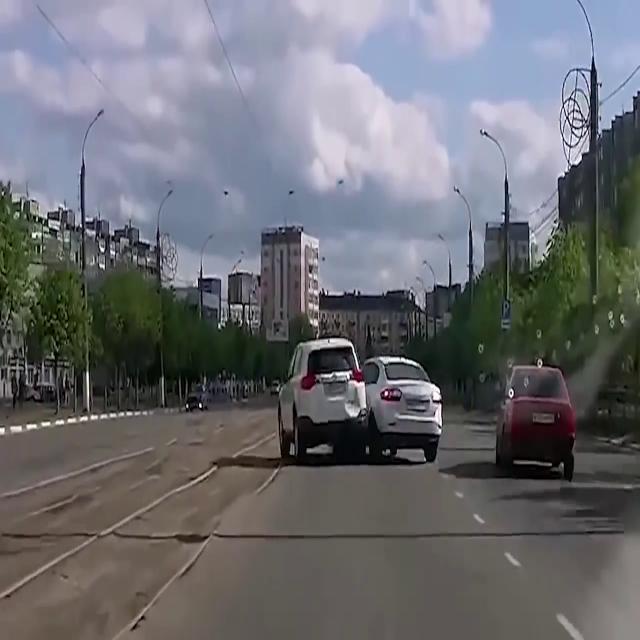car Accident: (259, 311, 460, 483)
